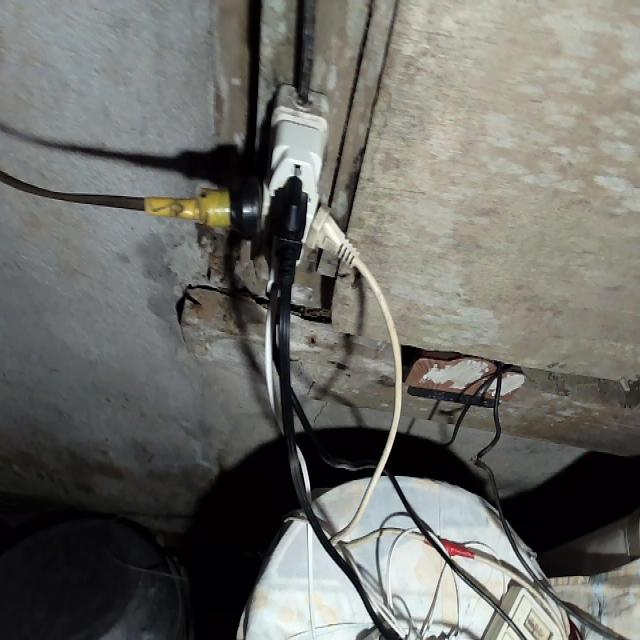-: (223, 84, 354, 277)
